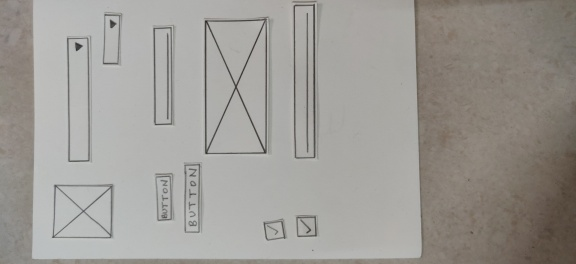button: (182, 161, 205, 236), (151, 170, 176, 224)
checkbox: (259, 216, 289, 244), (293, 213, 320, 240)
dropdown: (62, 34, 94, 165), (100, 11, 124, 67)
img: (200, 15, 272, 157), (49, 182, 116, 241)
text: (289, 1, 322, 163), (149, 22, 177, 129)
